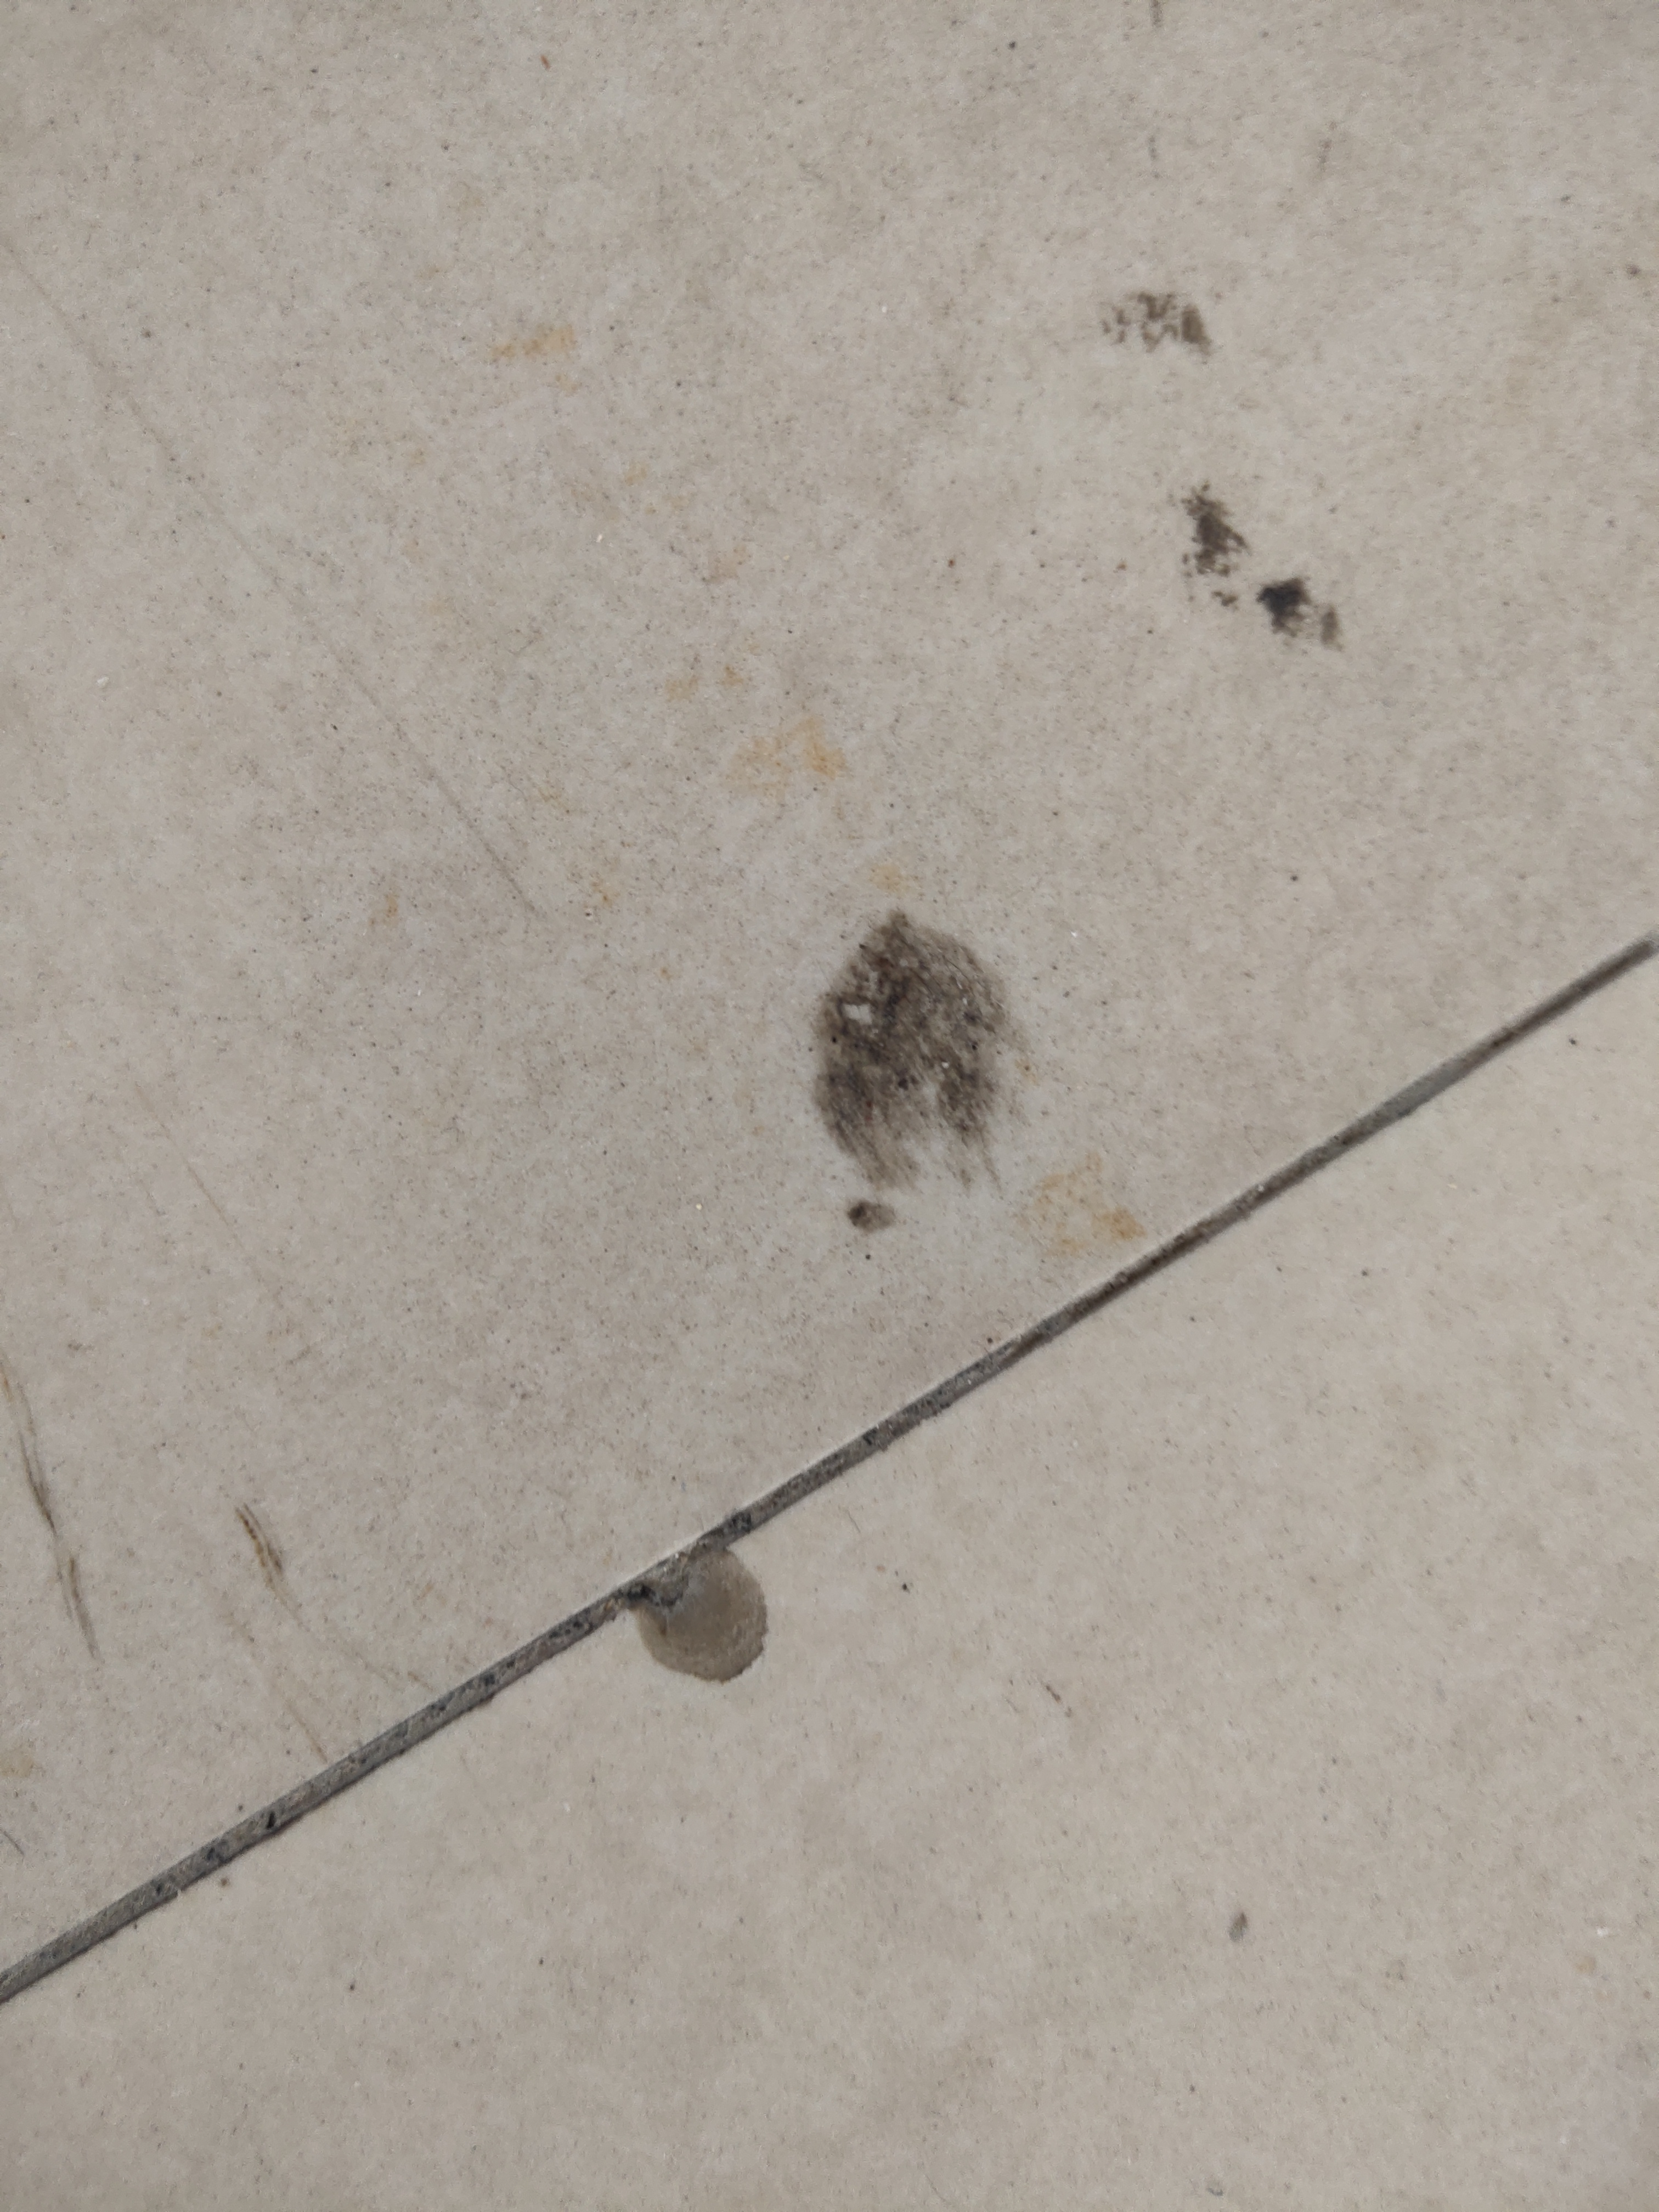grey spot: (814, 911, 1021, 1235), (634, 1547, 769, 1681), (1187, 479, 1251, 611), (1098, 293, 1213, 352), (1260, 577, 1344, 653)
